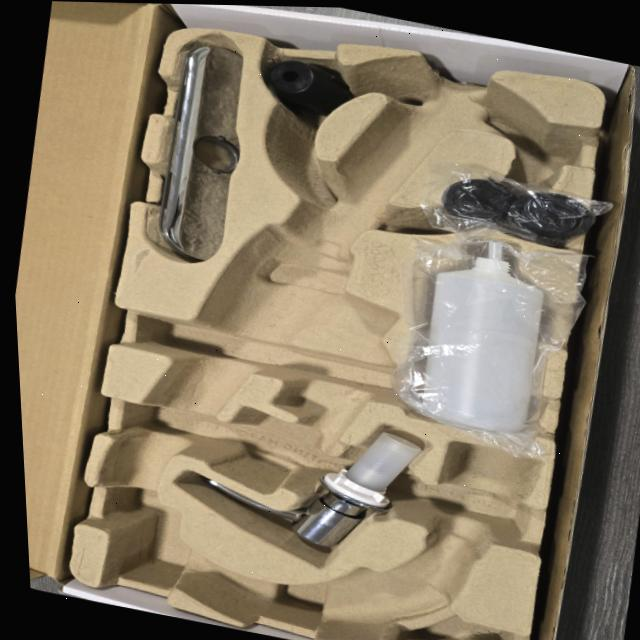1m: (107, 54, 532, 635)
2: (208, 430, 422, 545)
3: (421, 238, 546, 432)
4: (161, 43, 243, 260)
5: (264, 58, 356, 120)
6m: (490, 89, 588, 180)
7: (413, 162, 611, 248)
